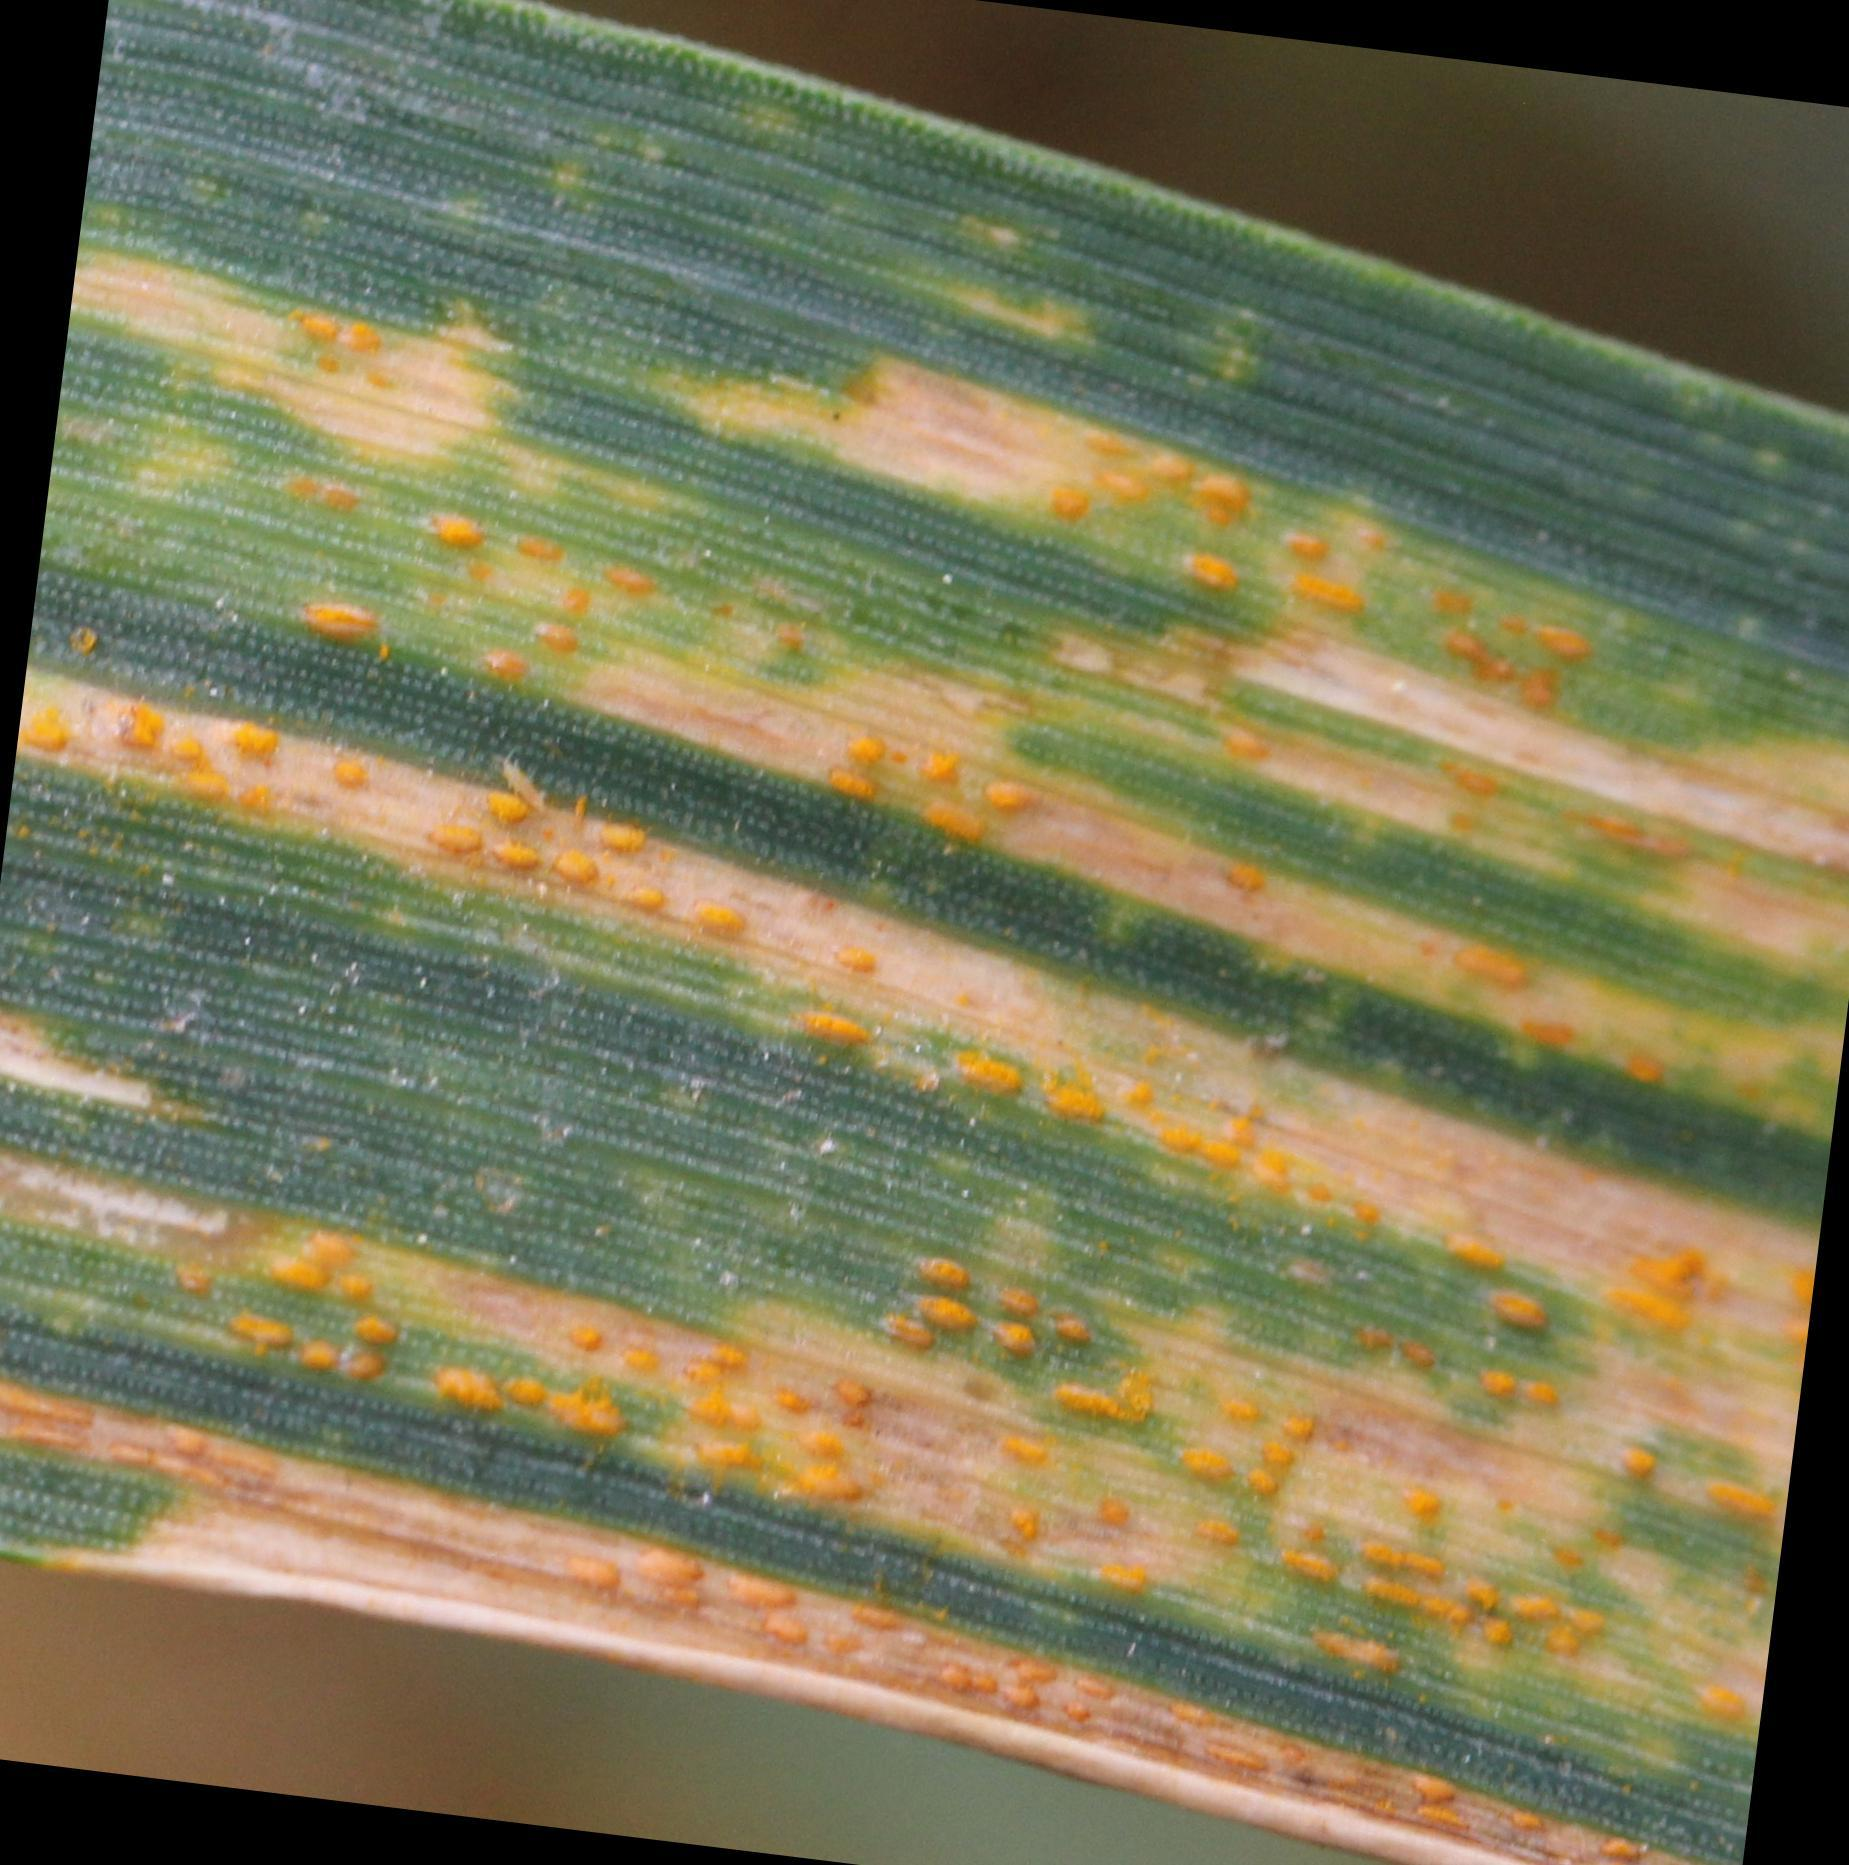Wheat: (58, 283, 1751, 1779)
